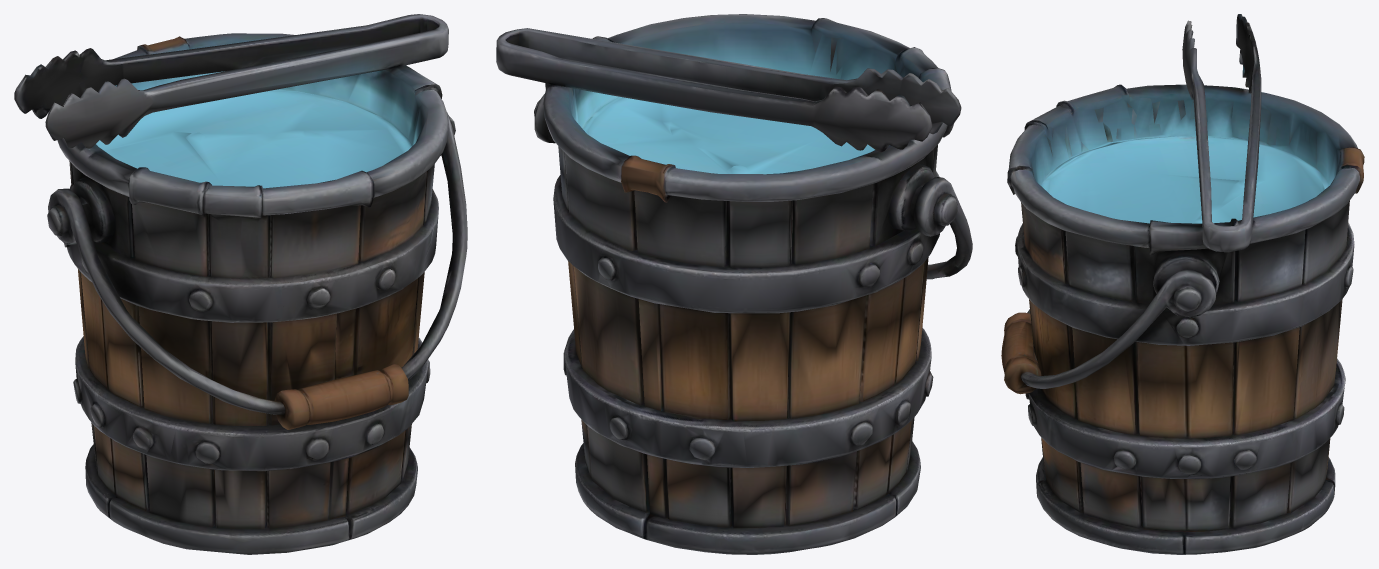
The model's file is Quench.opt.glb.
The picture shows the model from 3 angles, left to right: view 1: azimuth 30°, elevation 25°; view 2: azimuth 150°, elevation 25°; view 3: azimuth 270°, elevation 25°; orthographic projection. The views are drawn at different scales.
Parts seen in each view (by area): view 1: node_0; view 2: node_0; view 3: node_0.
Part boxes in pixels (x1=…): node_0: x1=14, y1=14, x2=467, y2=554; node_0: x1=496, y1=14, x2=972, y2=554; node_0: x1=1001, y1=14, x2=1364, y2=554.
Size of the model in its own units: 0.8658 by 0.87 by 0.7134.
1 material, 1 textured.
